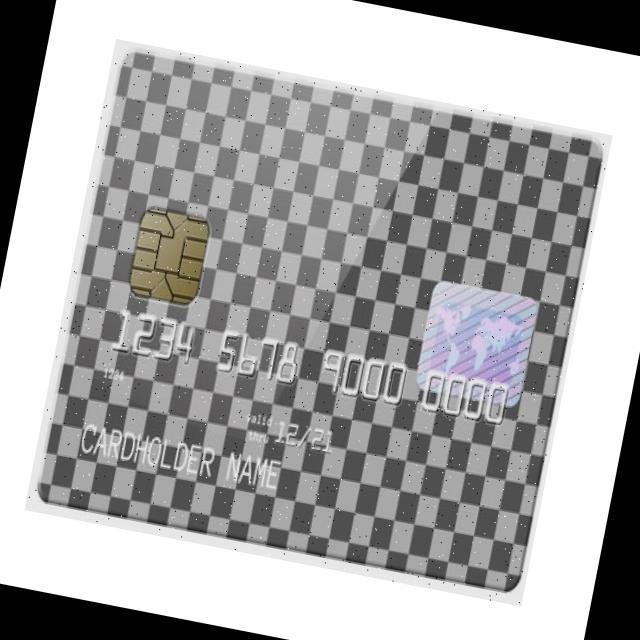payment_card: (24, 37, 614, 598)
